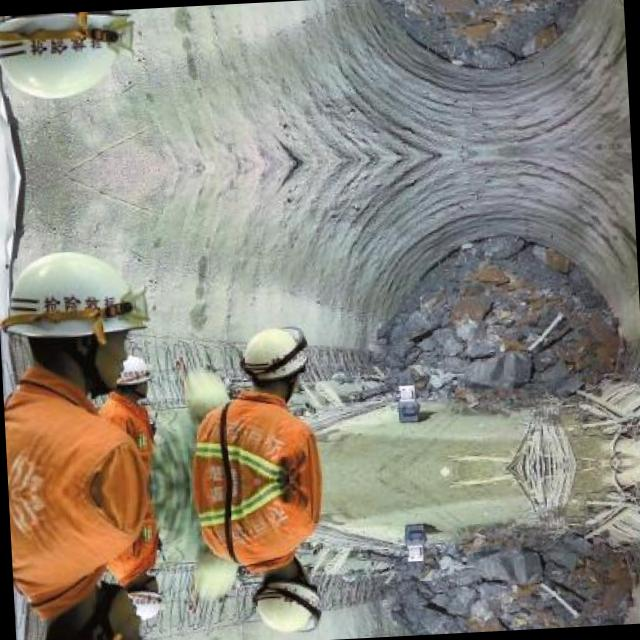helmet: (13, 237, 148, 372), (0, 10, 136, 112), (253, 576, 328, 637), (240, 323, 314, 384), (32, 607, 165, 640), (115, 354, 152, 399), (128, 576, 164, 622)
